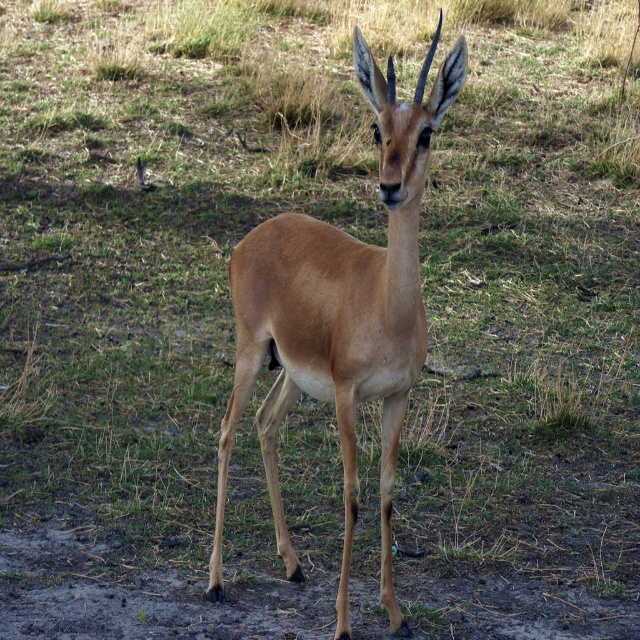Deer: (203, 7, 468, 639)
